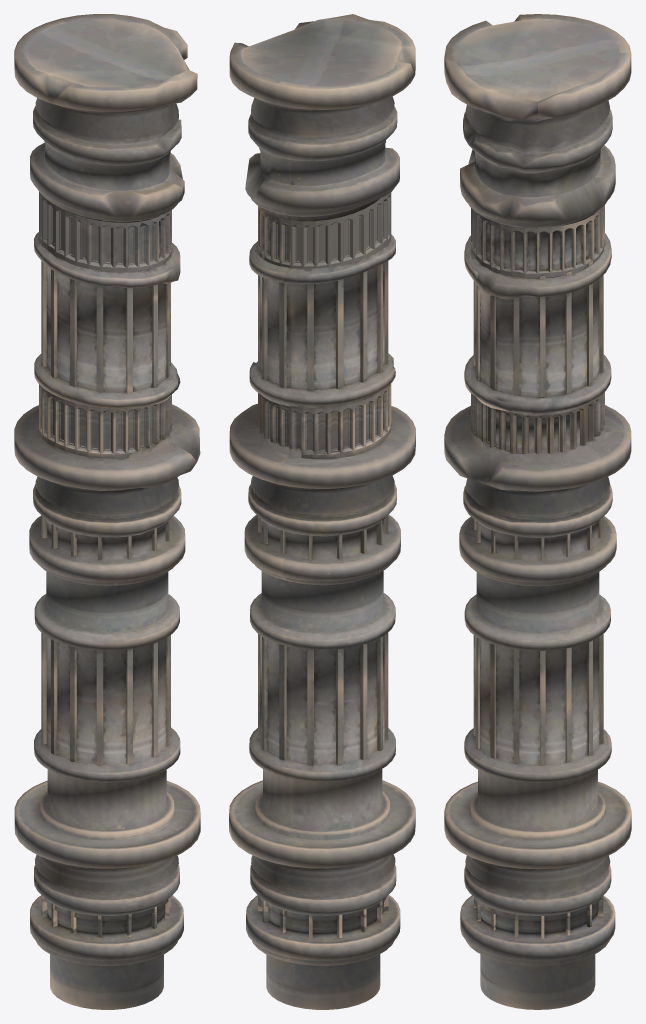
The picture shows the model from 3 angles, left to right: view 1: azimuth 30°, elevation 25°; view 2: azimuth 150°, elevation 25°; view 3: azimuth 270°, elevation 25°; orthographic projection.
Parts seen in each view (by area): view 1: 柱子.003; view 2: 柱子.003; view 3: 柱子.003.
Boxes of the visible parts, x1,y1,x2,y2 form: 柱子.003: (14, 14, 200, 1009); 柱子.003: (229, 14, 415, 1009); 柱子.003: (444, 14, 631, 1009).
Size of the model in its own units: 2057 by 11368 by 2068.
